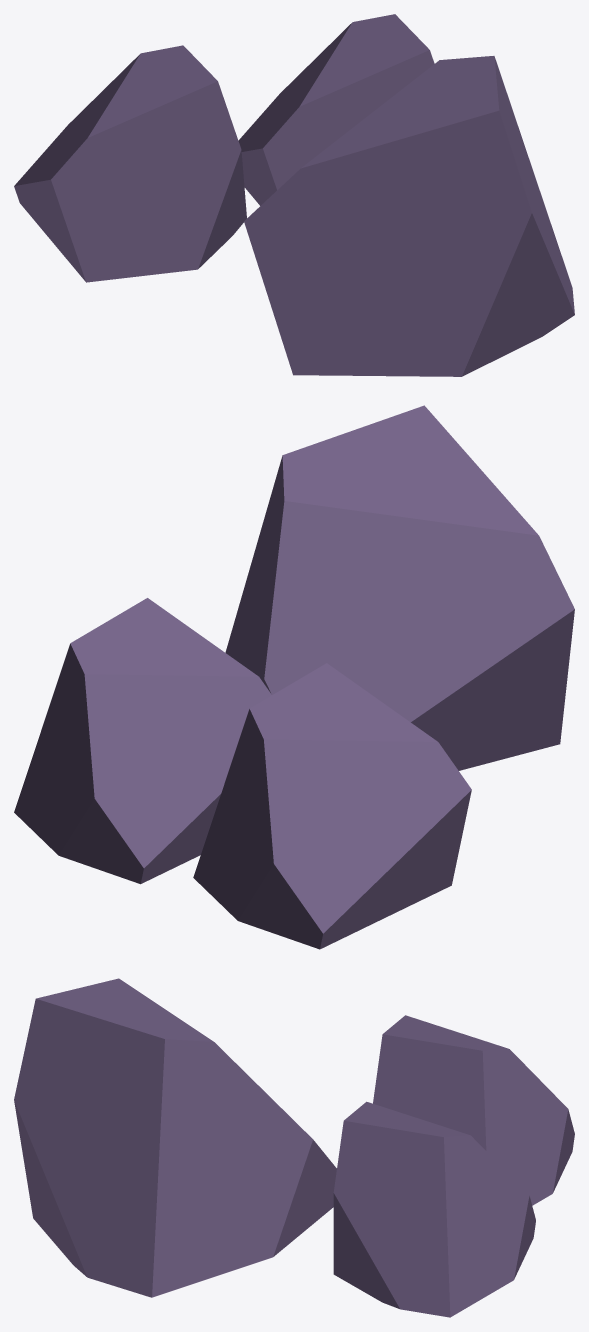
Rendered from rocks.fbx.
3 renders of one model, top to bottom at view 1: azimuth 30°, elevation 25°; view 2: azimuth 150°, elevation 25°; view 3: azimuth 270°, elevation 25°, orthographic. The views are drawn at different scales.
Parts seen in each view (by area): view 1: Cube.041; view 2: Cube.041; view 3: Cube.041.
Boxes of the visible parts, x1,y1,x2,y2 form: Cube.041: [14, 14, 574, 376]; Cube.041: [14, 405, 574, 949]; Cube.041: [14, 978, 574, 1317].
Bounding box in the file's own units: 131 × 79.94 × 166.
